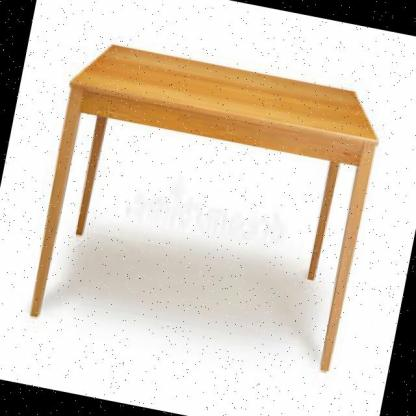Table: (12, 27, 389, 385)
